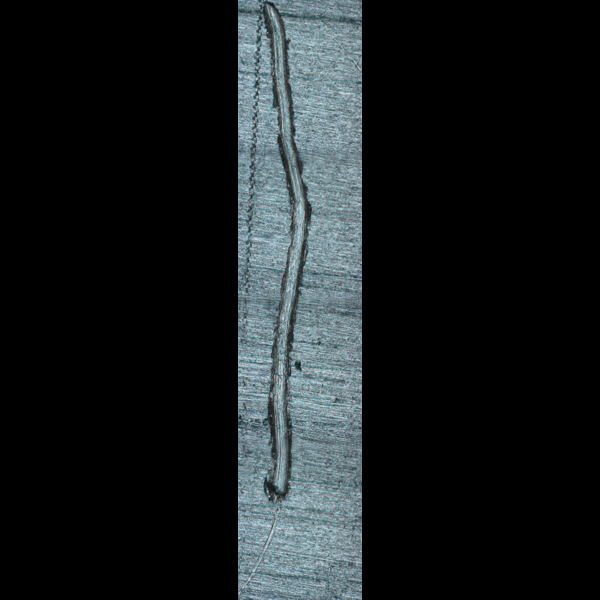d: (251, 0, 314, 511)
